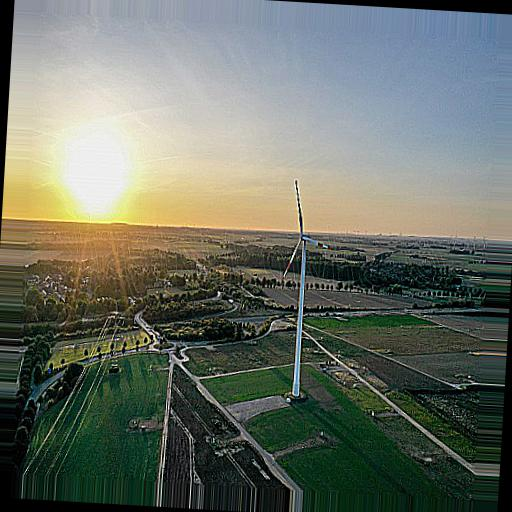wind turbine: (283, 178, 329, 402)
